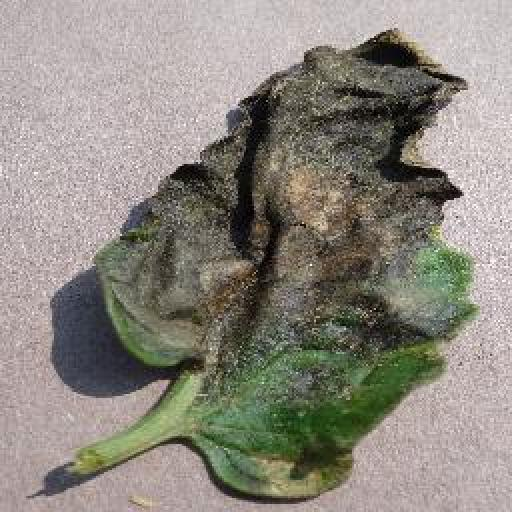disease_tomato: (100, 24, 475, 503)
